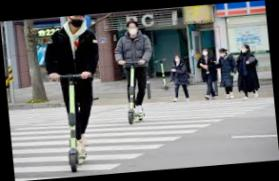nonhelmet: (41, 15, 112, 175), (110, 18, 159, 129)
